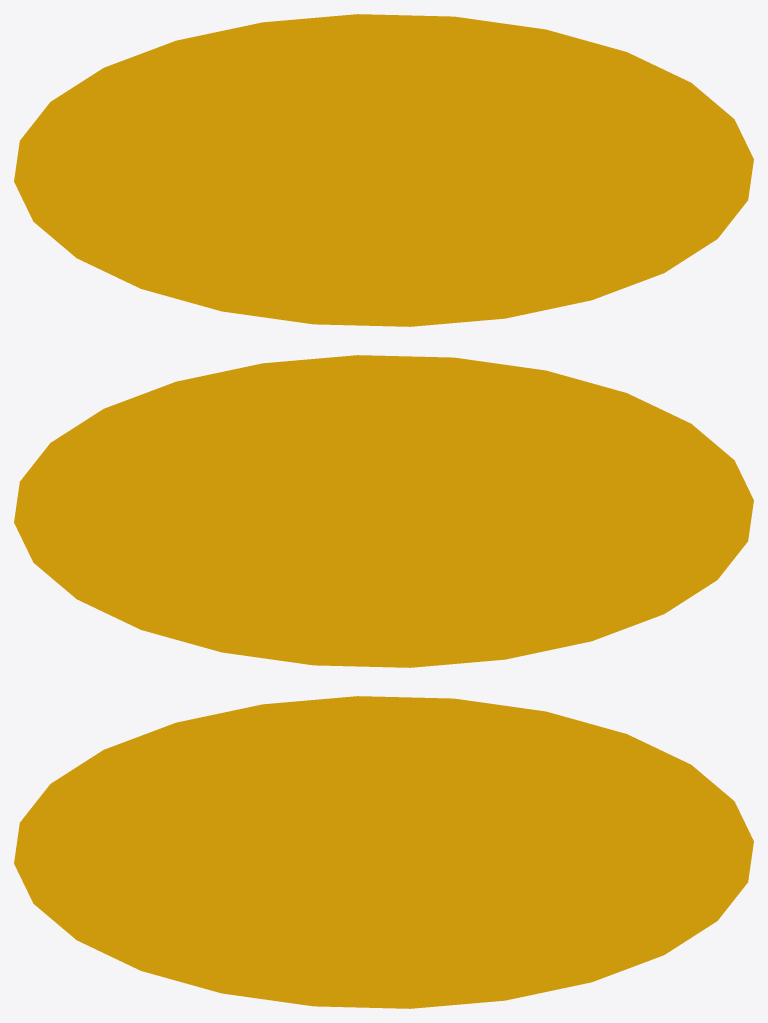
Rendered from converter_steel.dae.
3 views of the same model, one above another, from view 1: azimuth 30°, elevation 25°; view 2: azimuth 150°, elevation 25°; view 3: azimuth 270°, elevation 25° (orthographic).
Parts seen in each view (by area): view 1: mesh1-geometry_material0_IndexedFaceSet; view 2: mesh1-geometry_material0_IndexedFaceSet; view 3: mesh1-geometry_material0_IndexedFaceSet.
Boxes of the visible parts, box(x1,y1,x2,y2) form: mesh1-geometry_material0_IndexedFaceSet: box(14, 14, 753, 326); mesh1-geometry_material0_IndexedFaceSet: box(14, 355, 753, 667); mesh1-geometry_material0_IndexedFaceSet: box(14, 696, 753, 1008).
Bounding box in the file's own units: 1.17 × 0 × 1.17.
